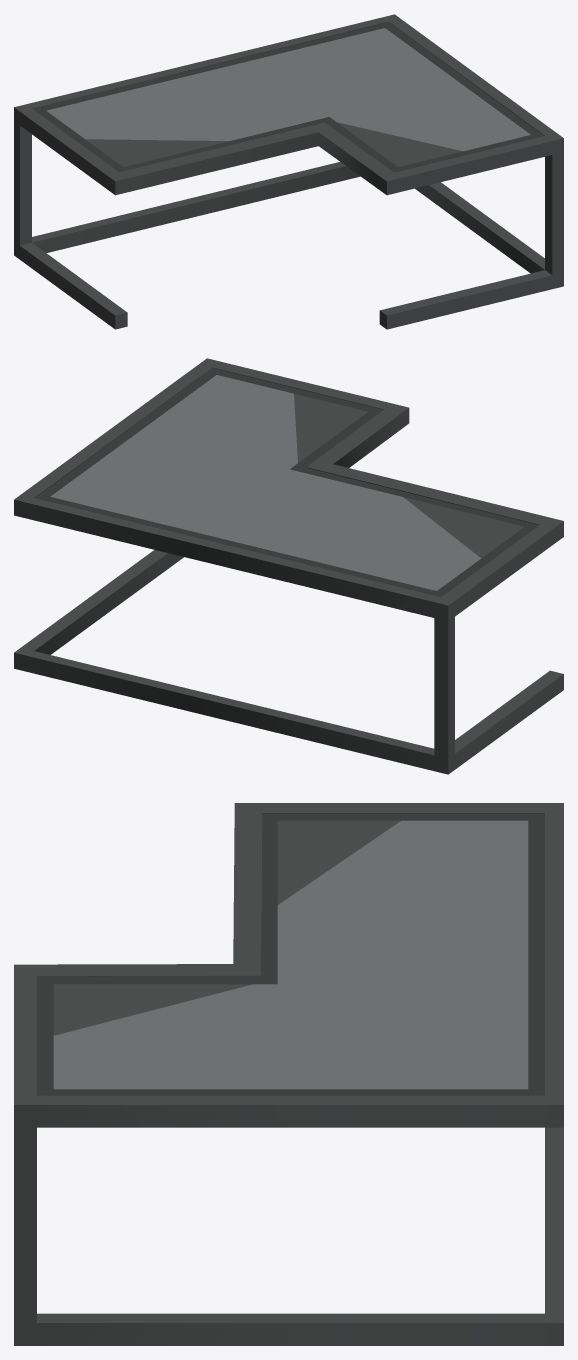
Rendered from Desk_018.glb.
3 views of the same model, one above another, from view 1: azimuth 30°, elevation 25°; view 2: azimuth 150°, elevation 25°; view 3: azimuth 270°, elevation 25° (orthographic). The views are drawn at different scales.
Parts seen in each view (by area): view 1: Desk_018; view 2: Desk_018; view 3: Desk_018.
Boxes of the visible parts, x1,y1,x2,y2 form: Desk_018: (14, 14, 563, 329); Desk_018: (14, 358, 563, 774); Desk_018: (14, 803, 563, 1345).
Bounding box in the file's own units: 2.21 × 0.8234 × 1.7.
Materials: 1 (1 with a texture image).
